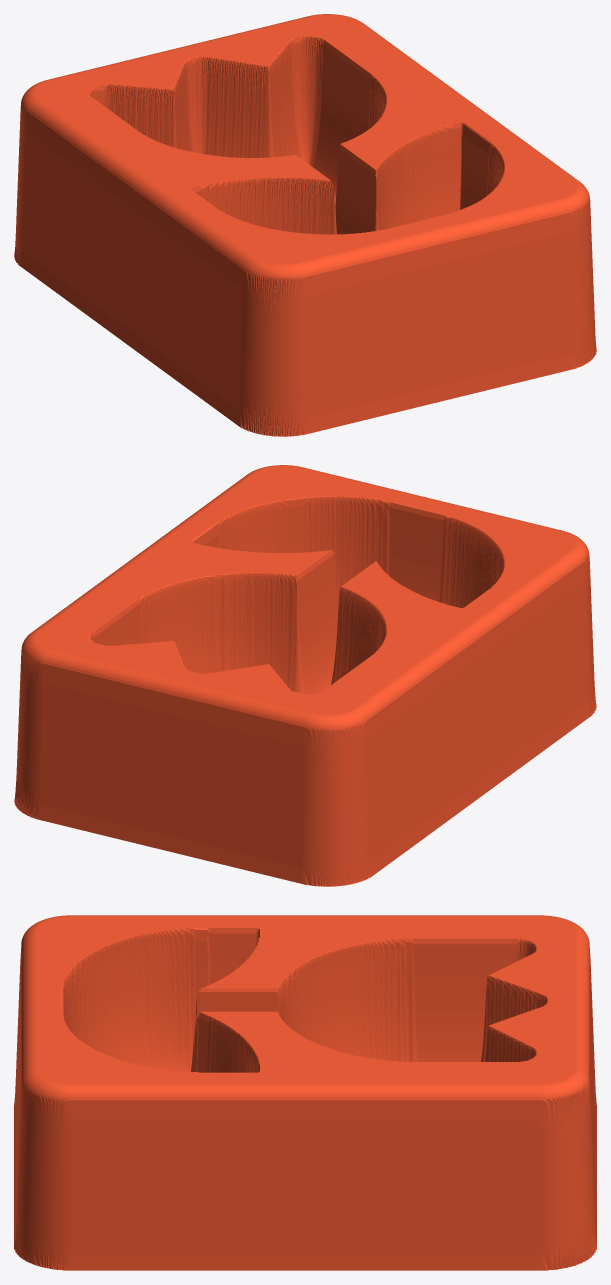
File: mold.glb
The picture shows the model from 3 angles, top to bottom: view 1: azimuth 30°, elevation 25°; view 2: azimuth 150°, elevation 25°; view 3: azimuth 270°, elevation 25°; orthographic projection. The views are drawn at different scales.
Visible parts, largest first — view 1: geometry_0; view 2: geometry_0; view 3: geometry_0.
Part boxes in pixels (x1=…): geometry_0: x1=14, y1=14, x2=596, y2=436; geometry_0: x1=14, y1=465, x2=596, y2=886; geometry_0: x1=14, y1=915, x2=596, y2=1270.
Size of the model in its own units: 0.0698 by 0.031 by 0.0924.
